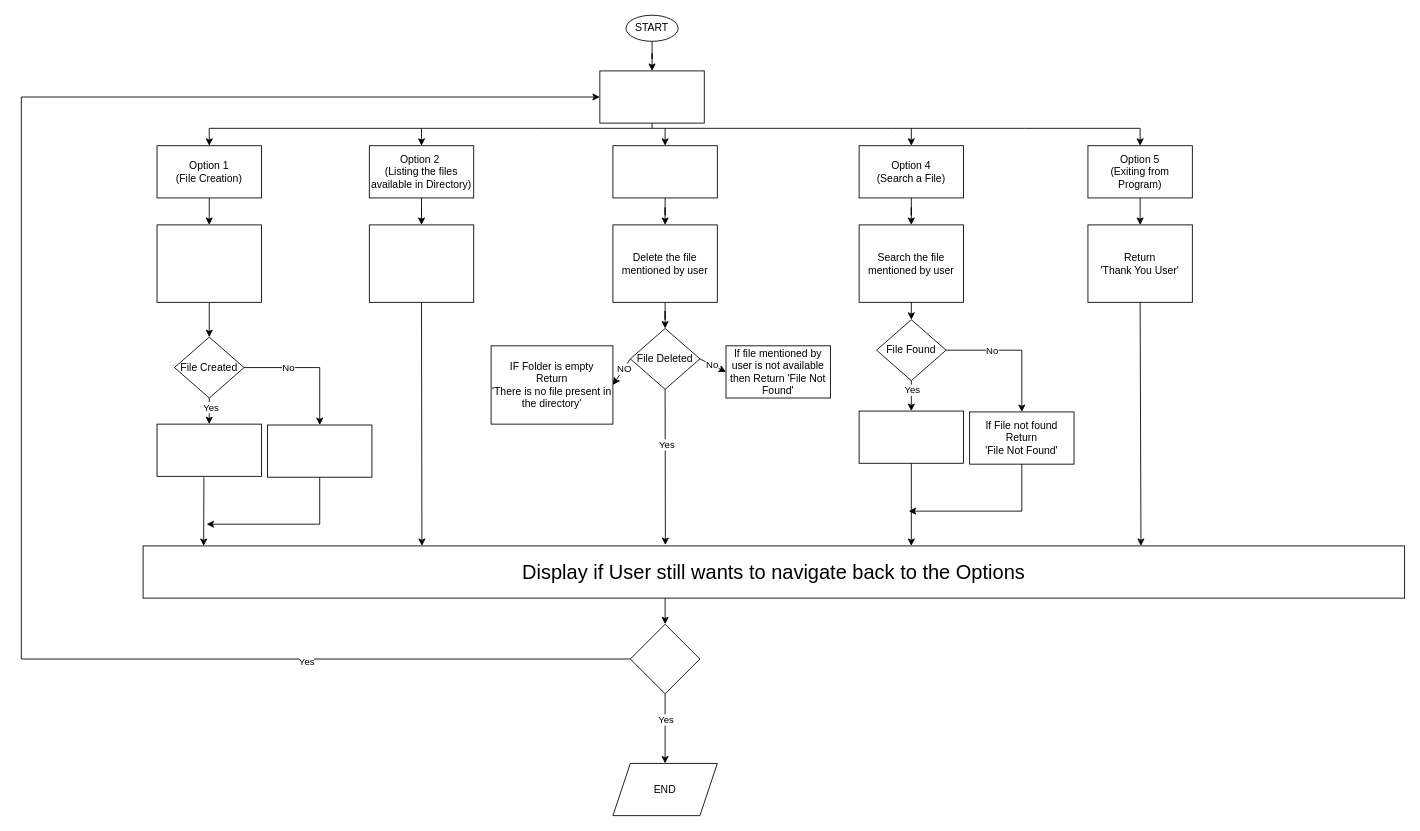
Some shapes in this 1420 by 831 pixel diagram are drawn without their labels. The centre of each missing label's shape, as x and y in pixels:
Check for Yes / No: [664,658]
Create a file with user specified name.: [208,263]
Display Main page with Options to Handle files: [651,96]
File Already Exist: [319,450]
File Created and Return Name of File: [208,449]
File found and return Name: [911,436]
List all the file in Directory: [421,263]
Option 3 (Deleting a File): [664,171]
